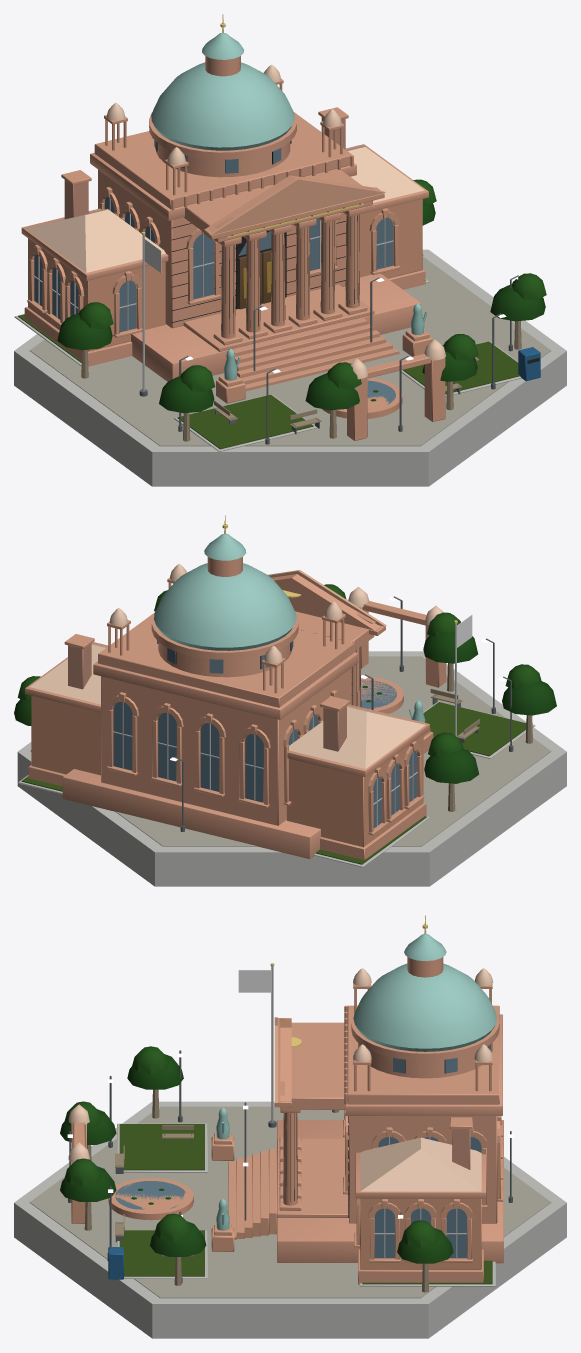
File: library_india.glb
3 renders of one model, top to bottom at view 1: azimuth 30°, elevation 25°; view 2: azimuth 150°, elevation 25°; view 3: azimuth 270°, elevation 25°, orthographic.
Visible parts, largest first — view 1: stone, wall_concrete, pavers, copper, leaf, plaster, glass, turf, dark, wood, steel_dark, brick (+2 smaller); view 2: stone, wall_concrete, copper, pavers, glass, plaster, leaf, turf, brick, wood, steel_dark; view 3: stone, wall_concrete, pavers, copper, leaf, plaster, turf, glass, wood, steel_dark, banner, brick (+2 smaller).
Boxes of the visible parts, x1=… form: stone: x1=21, y1=56, x2=445, y2=440; wall_concrete: x1=14, y1=198, x2=566, y2=486; pavers: x1=29, y1=256, x2=551, y2=446; copper: x1=151, y1=33, x2=427, y2=380; leaf: x1=57, y1=179, x2=546, y2=413; plaster: x1=26, y1=64, x2=445, y2=379; glass: x1=34, y1=140, x2=395, y2=409; turf: x1=18, y1=280, x2=519, y2=449; dark: x1=156, y1=141, x2=539, y2=363; wood: x1=81, y1=247, x2=521, y2=441; steel_dark: x1=139, y1=275, x2=518, y2=444; brick: x1=64, y1=117, x2=345, y2=218; stone: x1=25, y1=557, x2=446, y2=859; wall_concrete: x1=17, y1=651, x2=566, y2=886; copper: x1=154, y1=533, x2=425, y2=722; pavers: x1=115, y1=656, x2=551, y2=846; glass: x1=113, y1=640, x2=417, y2=828; plaster: x1=29, y1=564, x2=443, y2=768; leaf: x1=14, y1=584, x2=556, y2=783; turf: x1=21, y1=702, x2=526, y2=864; brick: x1=68, y1=643, x2=346, y2=751; wood: x1=430, y1=663, x2=532, y2=811; steel_dark: x1=175, y1=596, x2=513, y2=831; stone: x1=71, y1=957, x2=503, y2=1284; wall_concrete: x1=14, y1=1101, x2=566, y2=1338; pavers: x1=29, y1=1106, x2=551, y2=1298; copper: x1=216, y1=934, x2=497, y2=1230; leaf: x1=60, y1=1046, x2=453, y2=1263; plaster: x1=68, y1=968, x2=493, y2=1191; turf: x1=119, y1=1124, x2=492, y2=1284; glass: x1=115, y1=1044, x2=490, y2=1258; wood: x1=84, y1=1089, x2=428, y2=1292; steel_dark: x1=68, y1=1050, x2=512, y2=1282; banner: x1=238, y1=970, x2=271, y2=992; brick: x1=452, y1=1129, x2=470, y2=1169.
Bounding box in the file's own units: 21.41 × 15.8 × 24.6.
